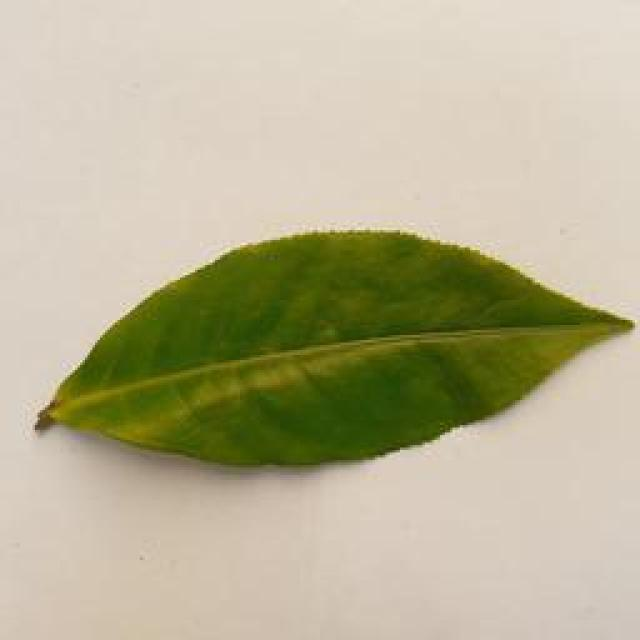Healthy: (33, 226, 634, 465)
